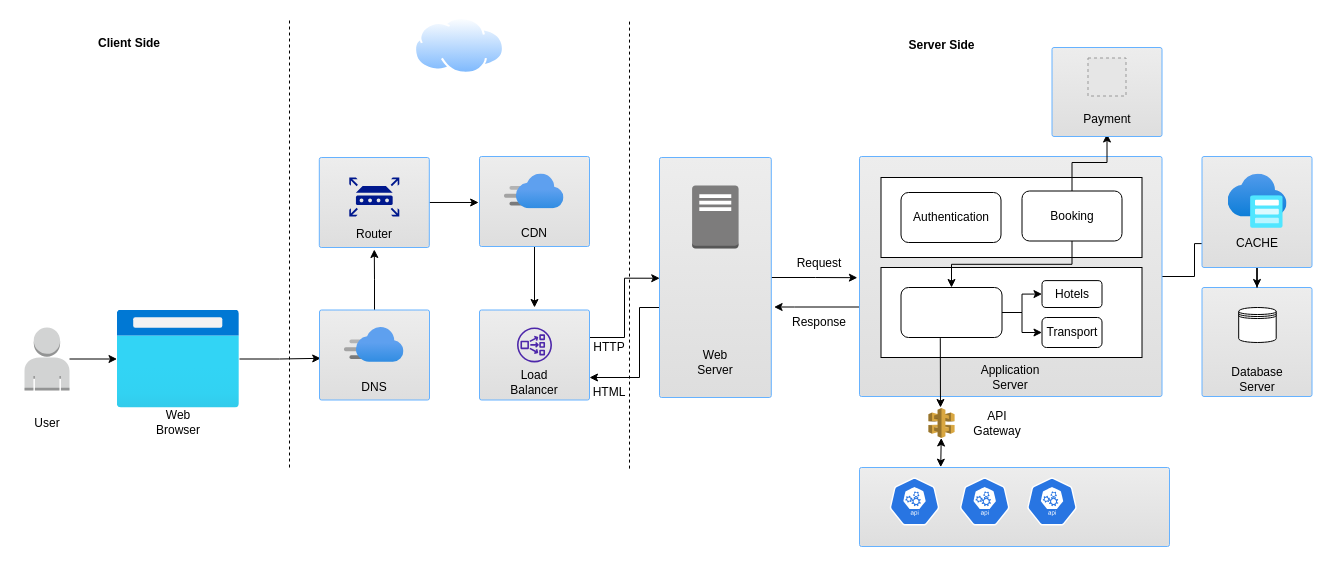
This 1330x564 diagram has some shape labels left out. Grey dashed boxes stand in for pictures. Each missing label, with the centre of its shape:
"Internet" goes at (x=459, y=45).
"Software Services" goes at (x=951, y=312).
